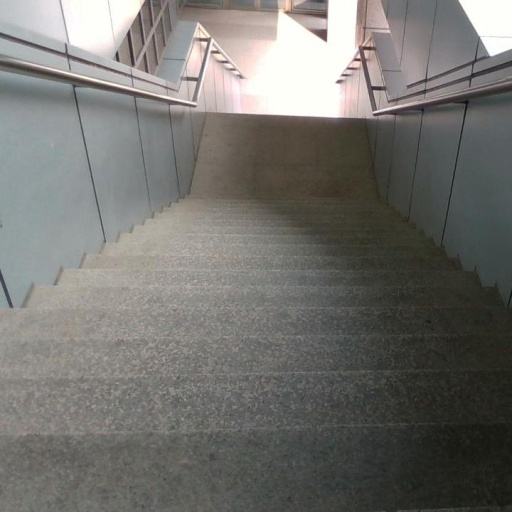Stairs: (0, 198, 512, 512)
